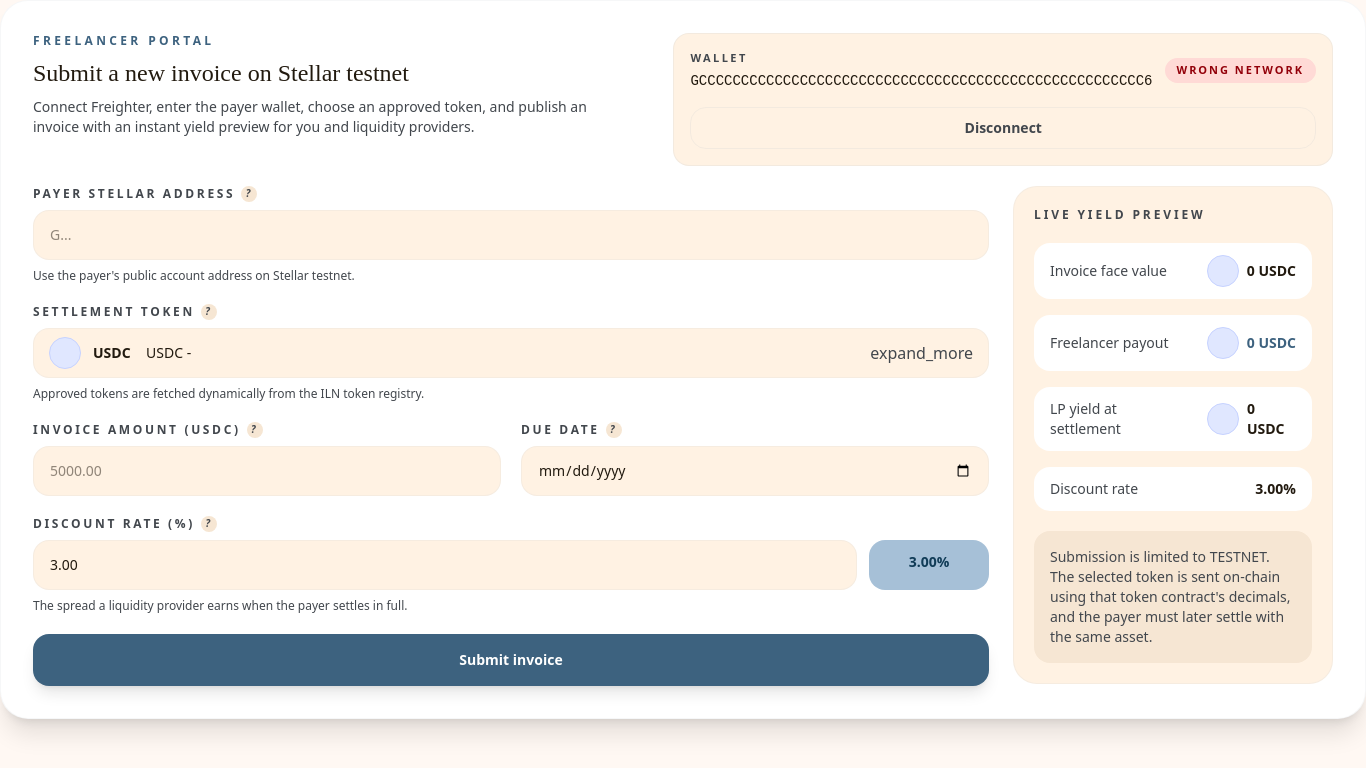
Test case: SubmitInvoiceForm › shows a network-mismatch wallet error when the wallet is on the wrong network
Click the button "Submit invoice": (511, 660) top-left (33, 634), bottom-right (989, 686)
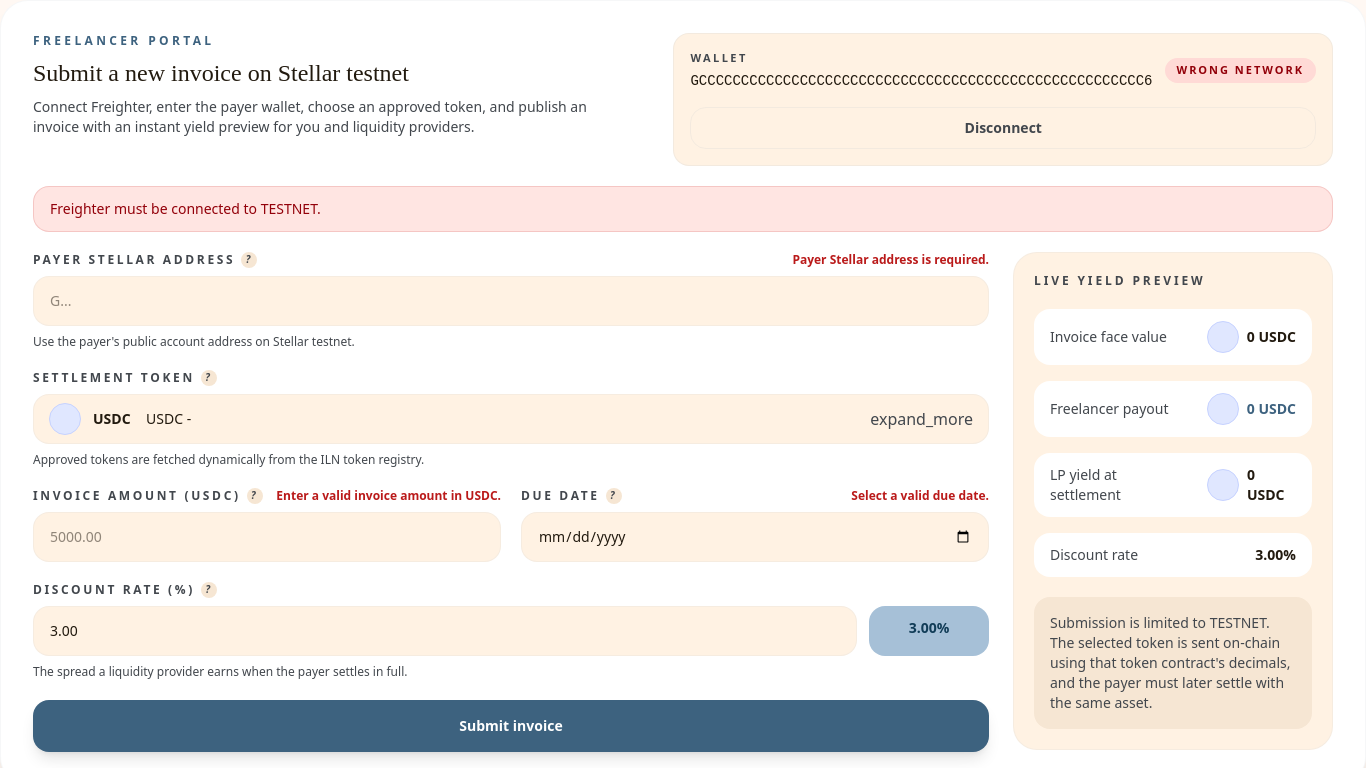
Now the text "Freighter must be connected to TESTNET." is shown, box top-left (33, 186), bottom-right (1333, 232)
